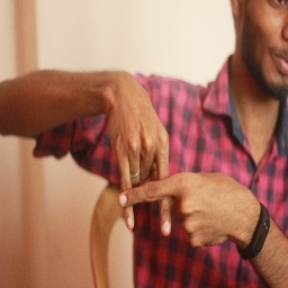H: (98, 134, 196, 234)
